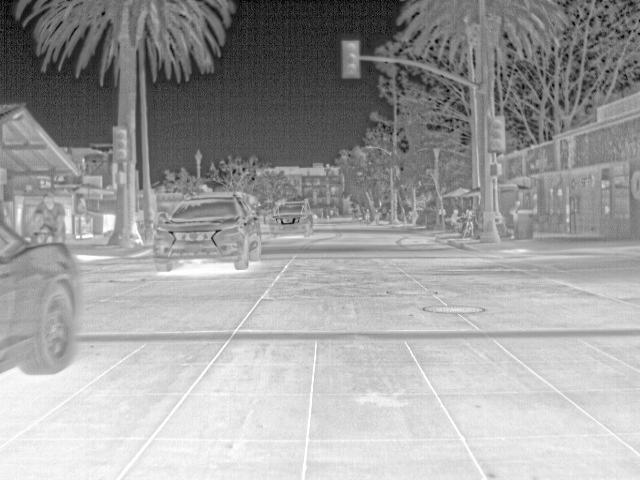car: (0, 219, 89, 377), (152, 191, 261, 272), (266, 199, 313, 238)
person: (31, 190, 66, 232), (75, 195, 90, 219), (449, 208, 463, 233), (509, 200, 521, 220), (362, 205, 372, 224), (372, 206, 380, 225), (462, 208, 470, 217)
